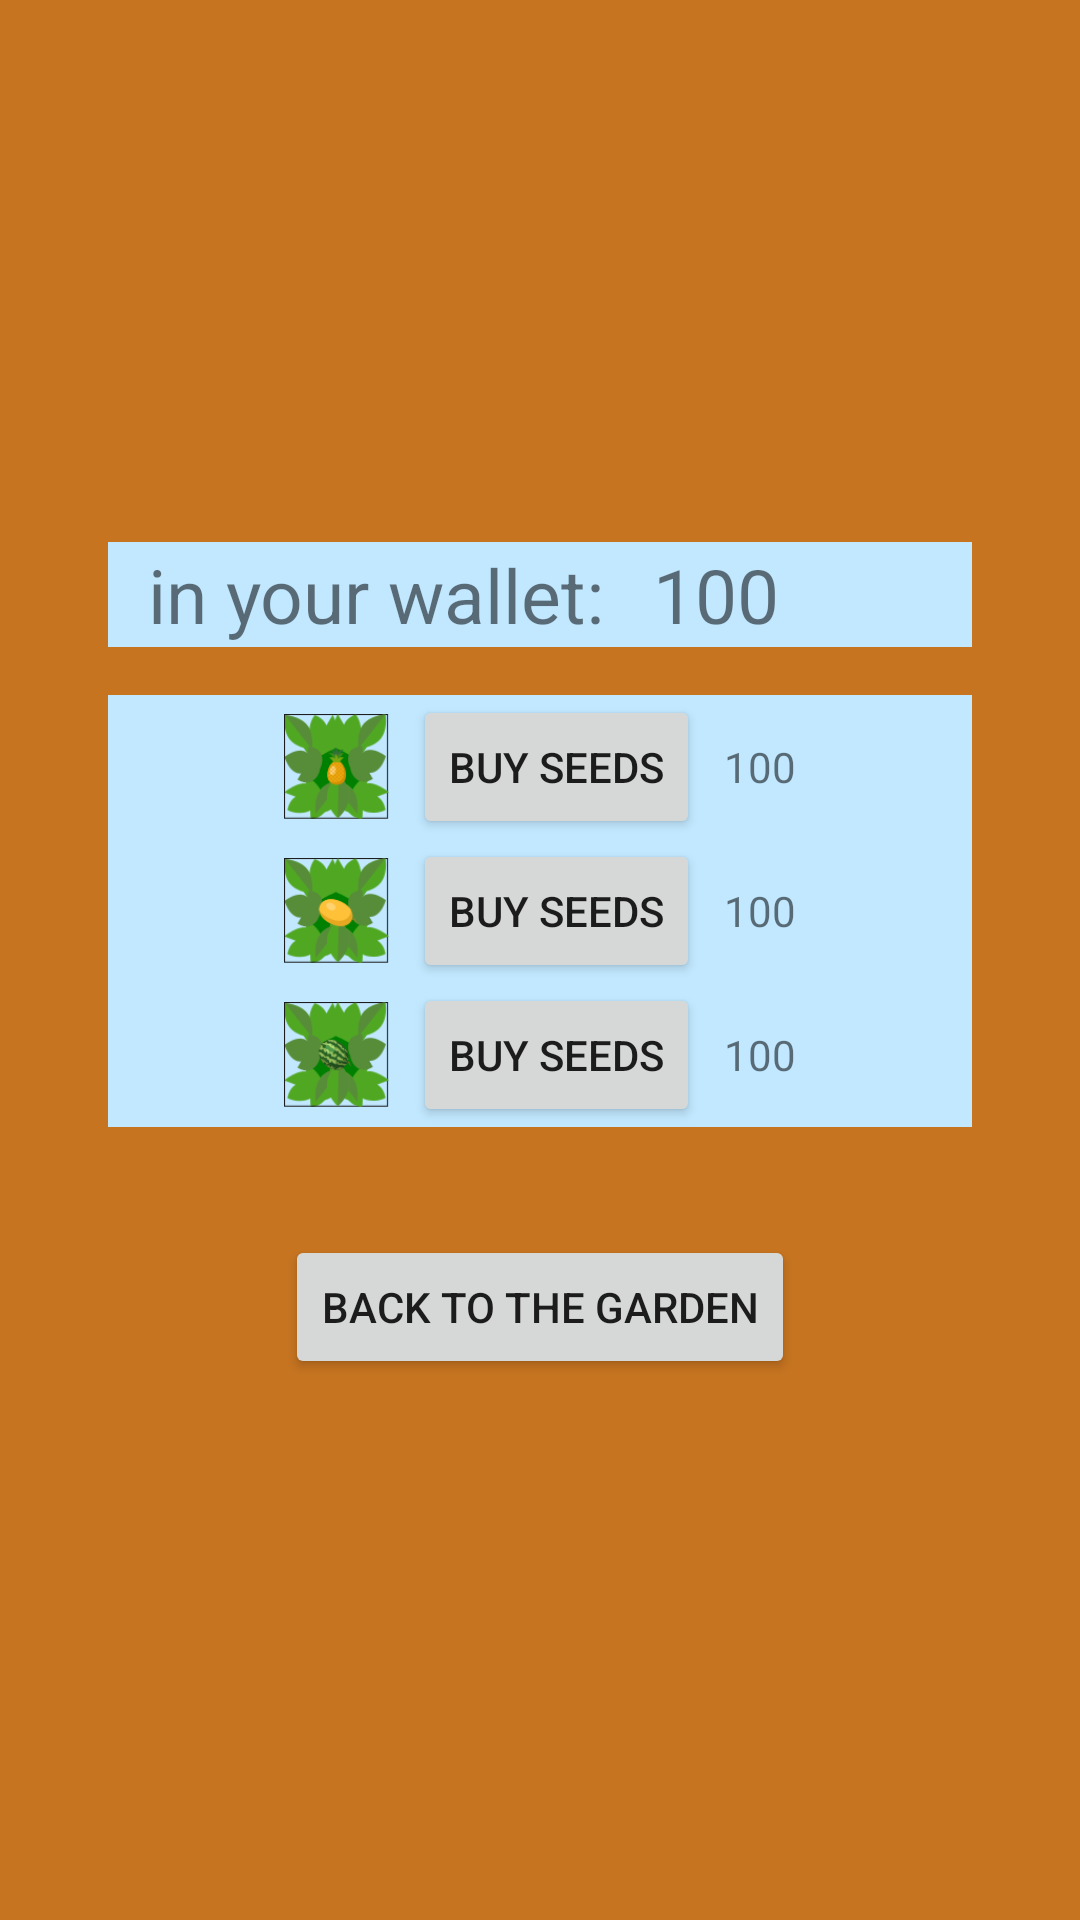

Icon bounding boxes for this 1080px x 1920px phone screenshot, format (x1, y1, x2, y2):
melon: (284, 858, 389, 963)
watermelon: (284, 1002, 389, 1107)
